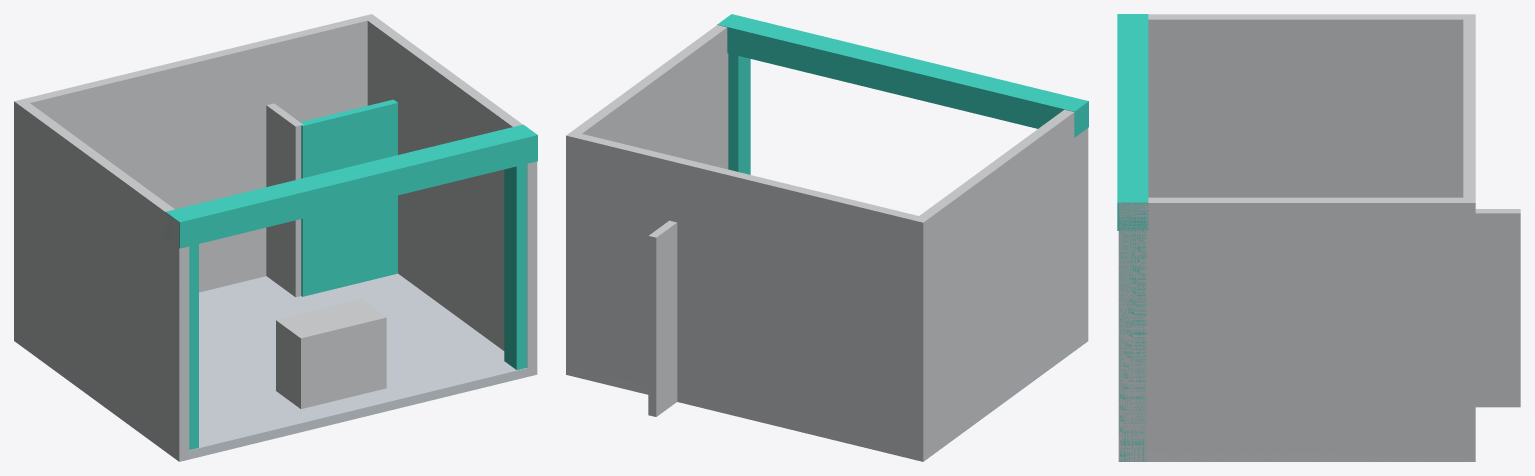
3 views of the same model, side by side, from view 1: azimuth 30°, elevation 25°; view 2: azimuth 150°, elevation 25°; view 3: azimuth 270°, elevation 25° (orthographic). The views are drawn at different scales.
Visible parts, largest first — view 1: Exhibition Booth Concept; view 2: Exhibition Booth Concept; view 3: Exhibition Booth Concept.
Boxes of the visible parts, bbox=[...] form: Exhibition Booth Concept: bbox=[14, 14, 537, 461]; Exhibition Booth Concept: bbox=[566, 14, 1088, 461]; Exhibition Booth Concept: bbox=[1117, 14, 1520, 461].
Bounding box in the file's own units: 5 × 3.2 × 4.52.
